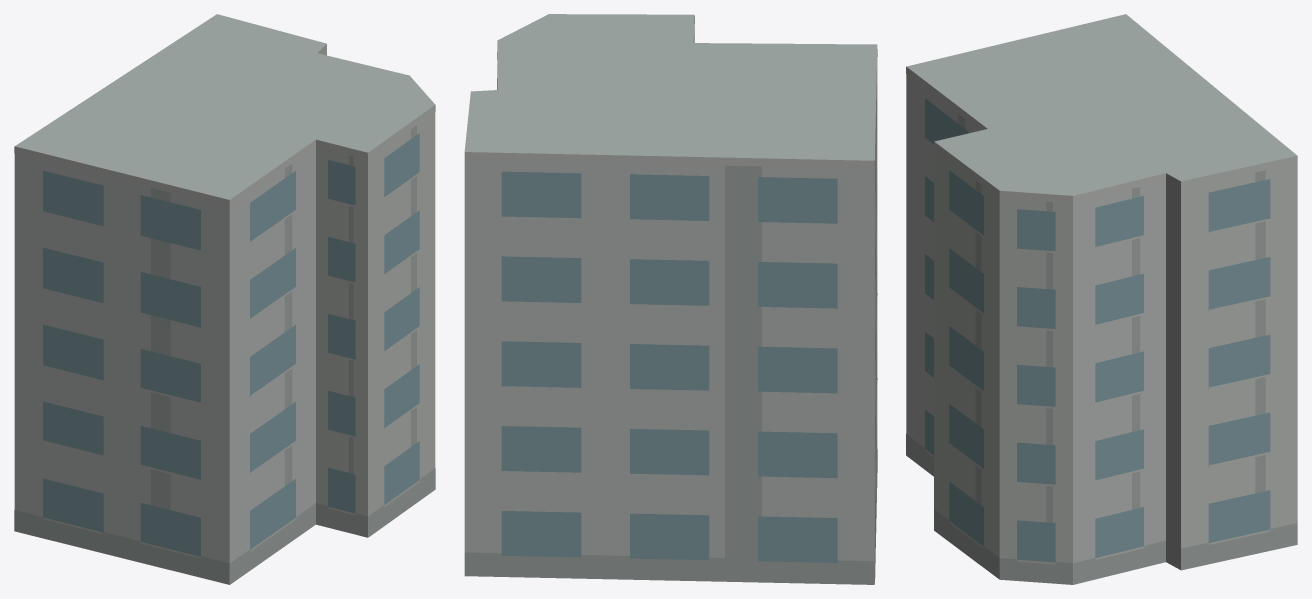
Rendered from survey-upis-32726279.glb.
3 views of the same model, side by side, from view 1: azimuth 30°, elevation 25°; view 2: azimuth 150°, elevation 25°; view 3: azimuth 270°, elevation 25° (orthographic). The views are drawn at different scales.
Visible parts, largest first — view 1: survey-upis-32726279.tmp; view 2: survey-upis-32726279.tmp; view 3: survey-upis-32726279.tmp.
Boxes of the visible parts, box(x1,y1,x2,y2) form: survey-upis-32726279.tmp: box(14, 14, 435, 584); survey-upis-32726279.tmp: box(464, 14, 877, 584); survey-upis-32726279.tmp: box(906, 14, 1297, 584).
Size of the model in its own units: 12.85 by 12.8 by 11.68.
